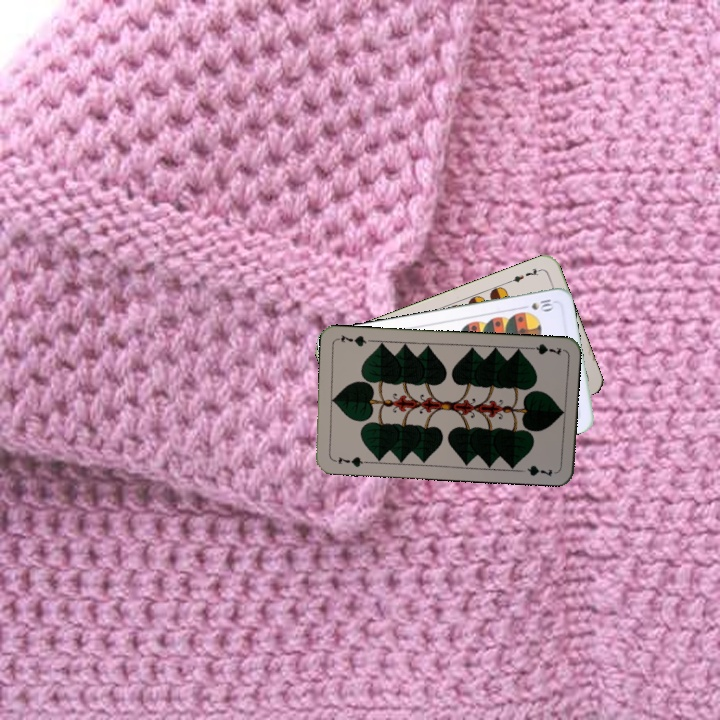E7: (505, 264, 544, 285)
G7: (524, 340, 563, 358), (329, 453, 370, 469)
S10: (527, 295, 556, 313)
